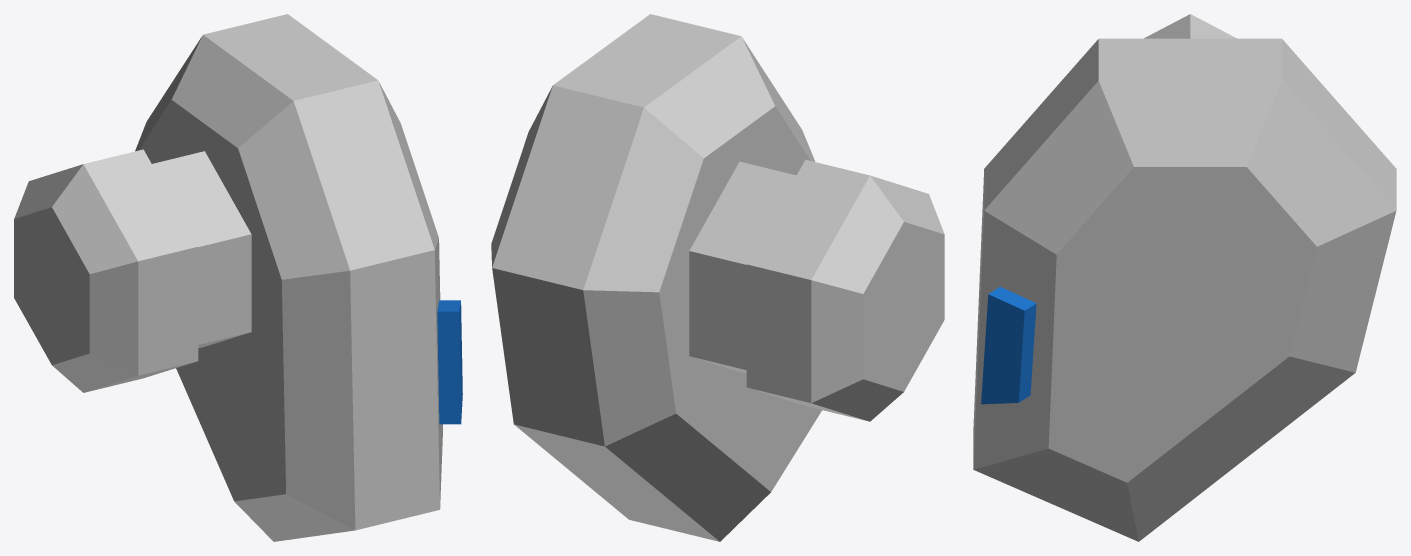
File: SM_earphone.fbx
3 renders of one model, left to right at view 1: azimuth 30°, elevation 25°; view 2: azimuth 150°, elevation 25°; view 3: azimuth 270°, elevation 25°, orthographic. The views are drawn at different scales.
Visible parts, largest first — view 1: earphone; view 2: earphone; view 3: earphone.
Part boxes in pixels (box(x1,y1,x2,y2)): earphone: box(14, 14, 462, 541); earphone: box(491, 14, 944, 541); earphone: box(973, 14, 1396, 541).
Bounding box in the file's own units: 3.06 × 4.07 × 3.38.
